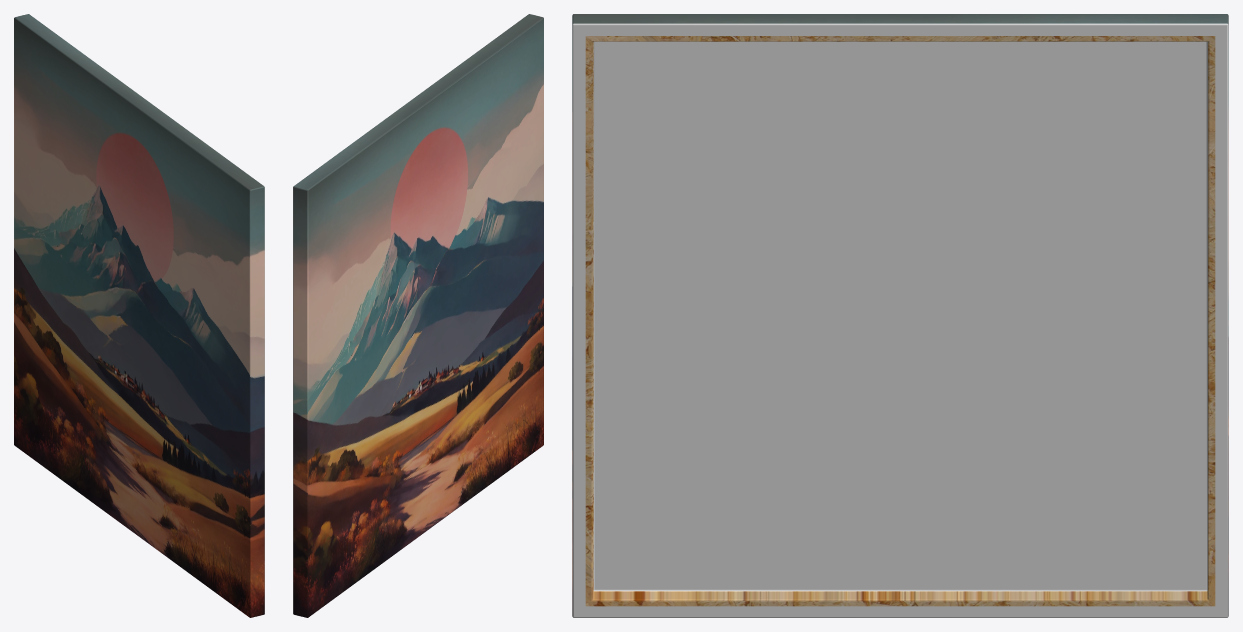
Rendered from MOD_ART_ThreeRooms.fbx_Wall_Painting_M1.fbx.
The picture shows the model from 3 angles, left to right: view 1: azimuth 30°, elevation 25°; view 2: azimuth 150°, elevation 25°; view 3: azimuth 270°, elevation 25°; orthographic projection. The views are drawn at different scales.
Visible parts, largest first — view 1: Painting 1; view 2: Painting 1; view 3: Painting 1.
Part boxes in pixels (left/top/right/bottom): Painting 1: left=14, top=14, right=264, bottom=617; Painting 1: left=293, top=14, right=543, bottom=617; Painting 1: left=572, top=14, right=1228, bottom=617.
Bounding box in the file's own units: 1.5 × 40 × 40.
3 materials, 2 textured.
